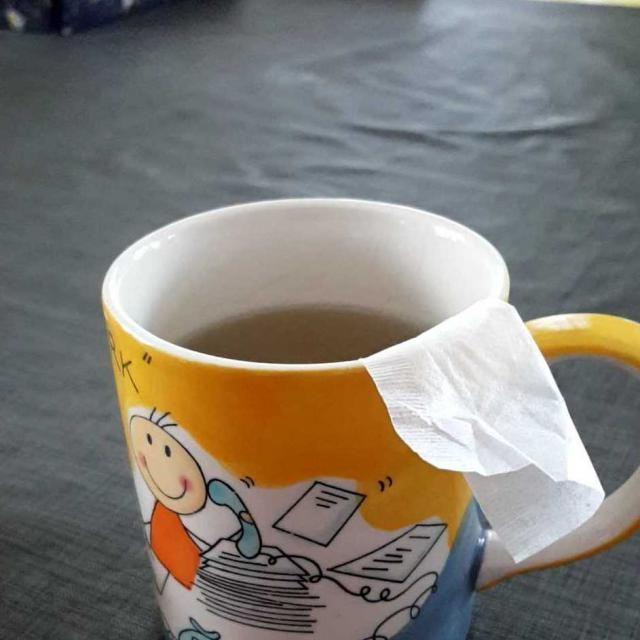tea: (182, 298, 430, 366)
